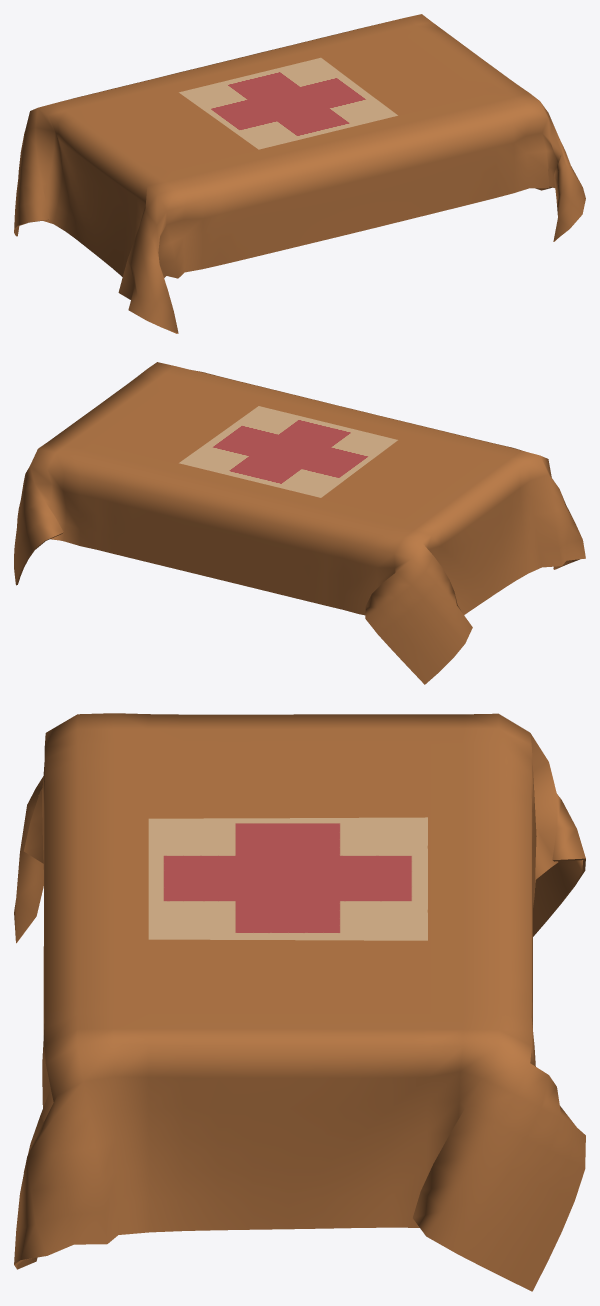
The model's file is tex.fbx.
3 renders of one model, top to bottom at view 1: azimuth 30°, elevation 25°; view 2: azimuth 150°, elevation 25°; view 3: azimuth 270°, elevation 25°, orthographic. The views are drawn at different scales.
Parts seen in each view (by area): view 1: Drap_Table; view 2: Drap_Table; view 3: Drap_Table.
Part boxes in pixels (bbox=[...]): Drap_Table: bbox=[14, 14, 585, 333]; Drap_Table: bbox=[14, 362, 585, 684]; Drap_Table: bbox=[14, 713, 585, 1291].
Bounding box in the file's own units: 326 × 90.63 × 199.
